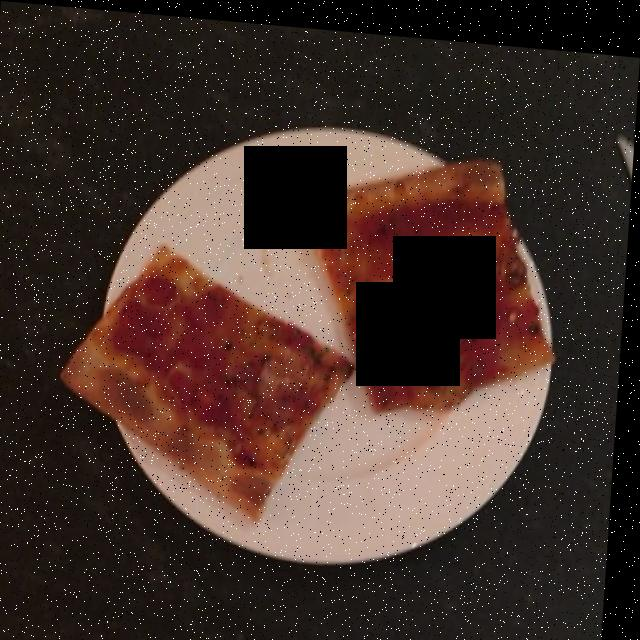pizza-margherita-baked: (61, 160, 555, 513)
